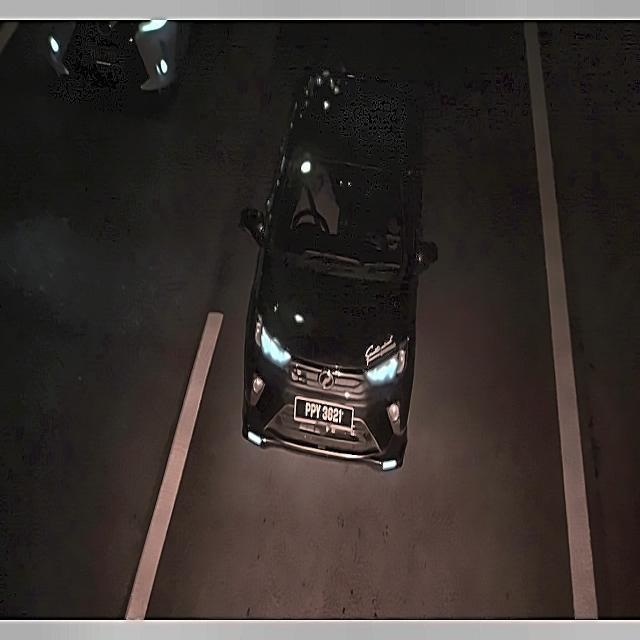car: (292, 392, 358, 436), (77, 32, 132, 74)
